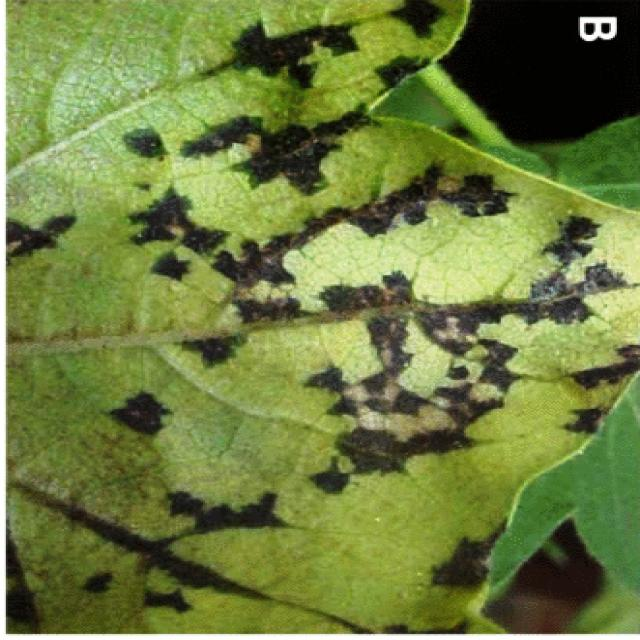Bacterial Blight: (162, 20, 491, 497)
